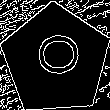O_W: (30, 37, 82, 83)
